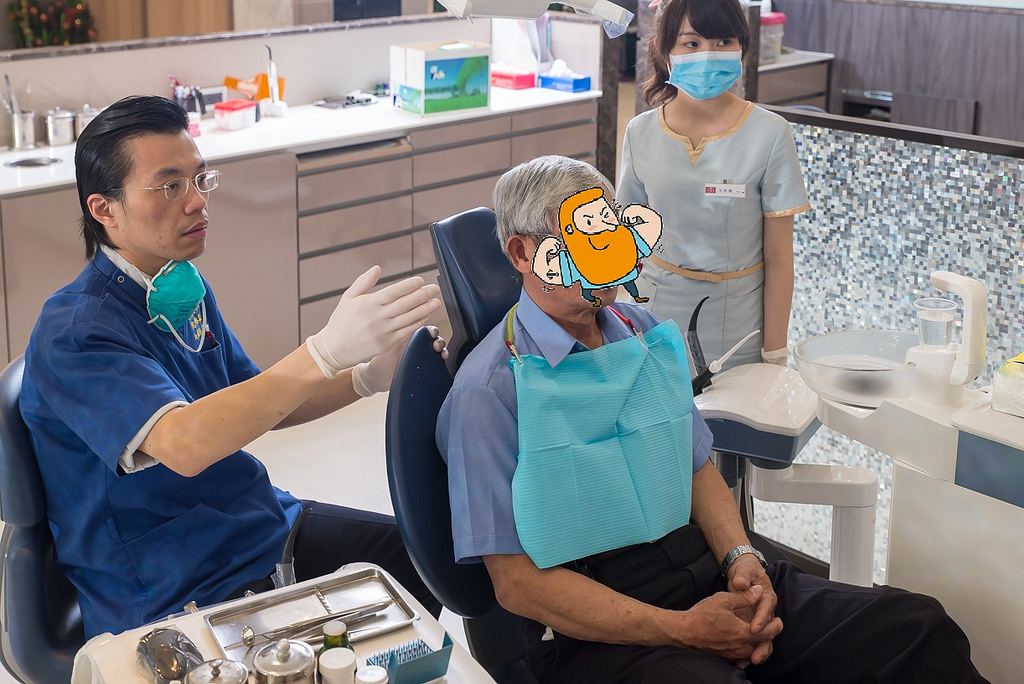mask: (667, 50, 743, 99)
